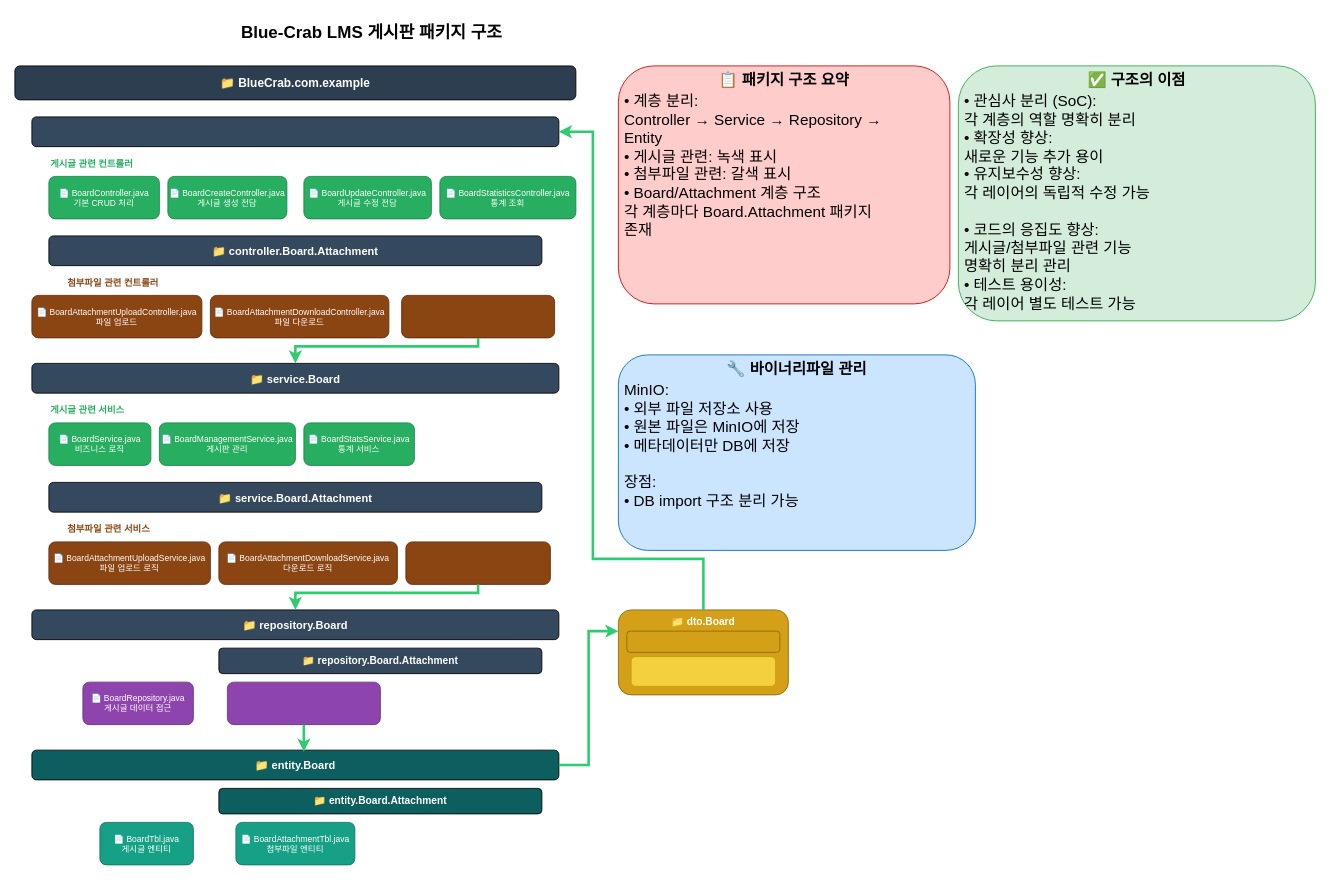
This 1330x880 diagram has some shape labels left out. The centre of each missing label's shape, as x and y in pixels:
"📁 controller.Board" goes at pixel 295 131.
"📁 dto.Board.Attachment" goes at pixel 703 641.
"📄 AttachmentLinkRequest.java 첨부파일 연결 요청 DTO" goes at pixel 703 671.
"📄 BoardAttachmentInfoController.java 파일 정보 조회" goes at pixel 478 316.
"📄 BoardAttachmentInfoService.java 파일 정보 로직" goes at pixel 477 562.
"📄 BoardAttachmentRepository.java 첨부파일 데이터 접근" goes at pixel 303 703.
